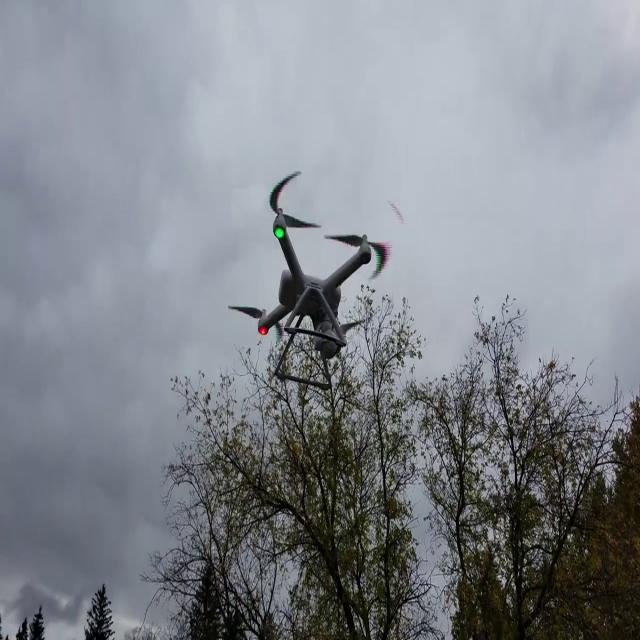drone: (220, 168, 422, 396)
